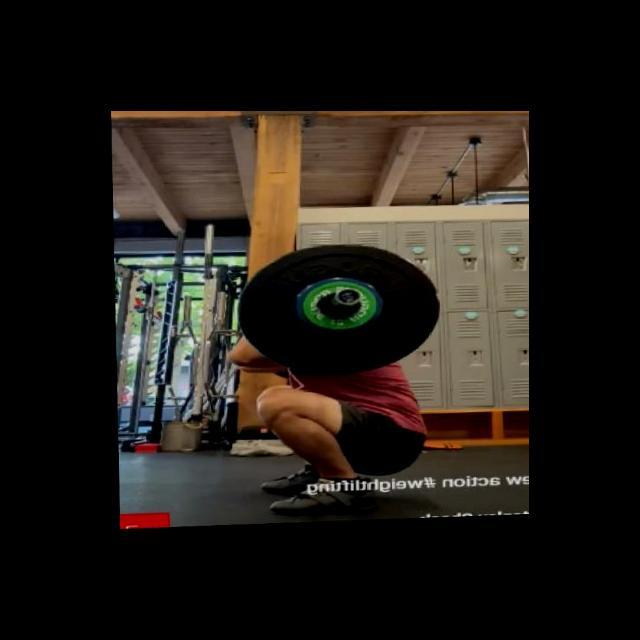barbell: (231, 239, 442, 381)
